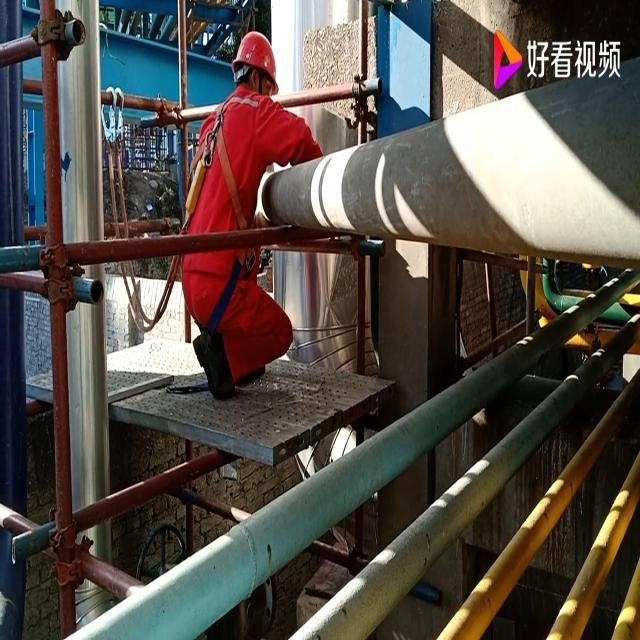Arnes_seguridad: (176, 82, 272, 336)
